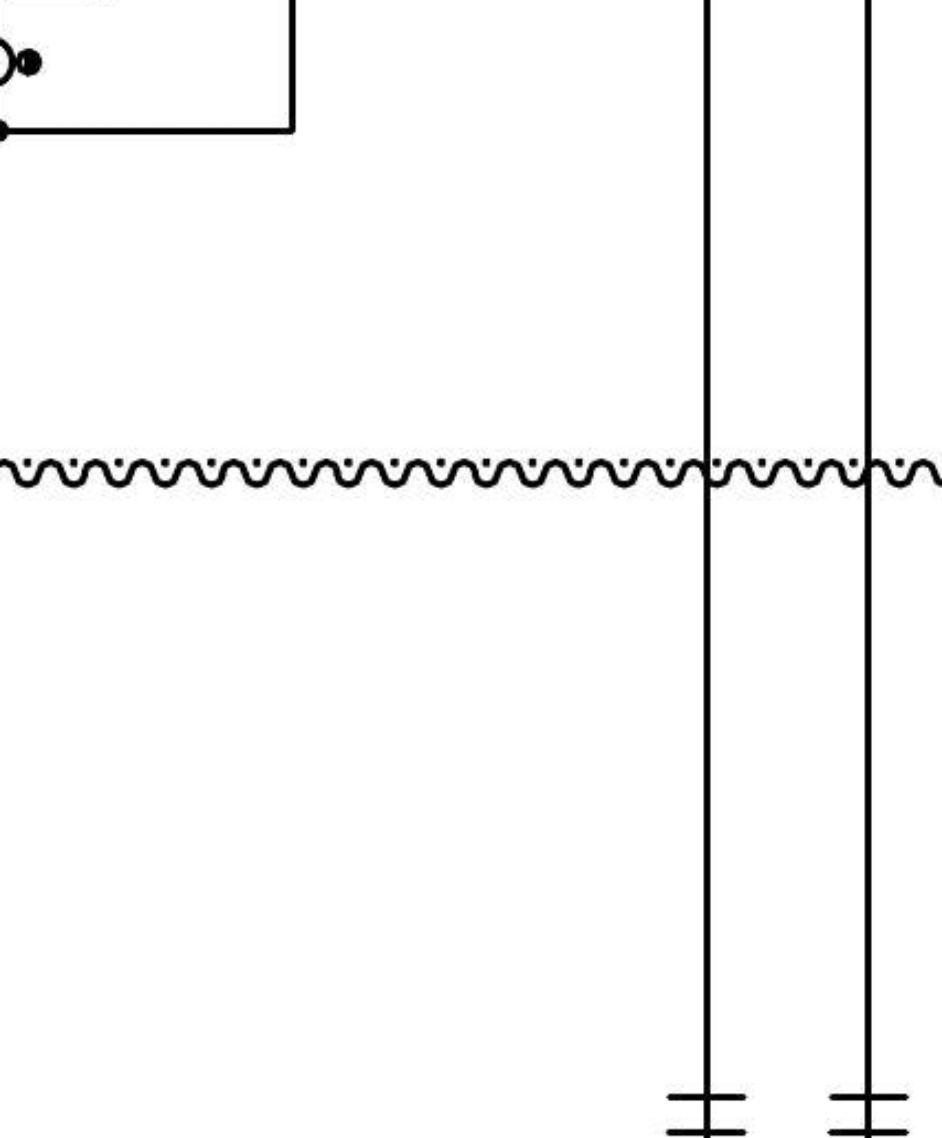115_buffer: (665, 1094, 748, 1137), (827, 1094, 909, 1136)
